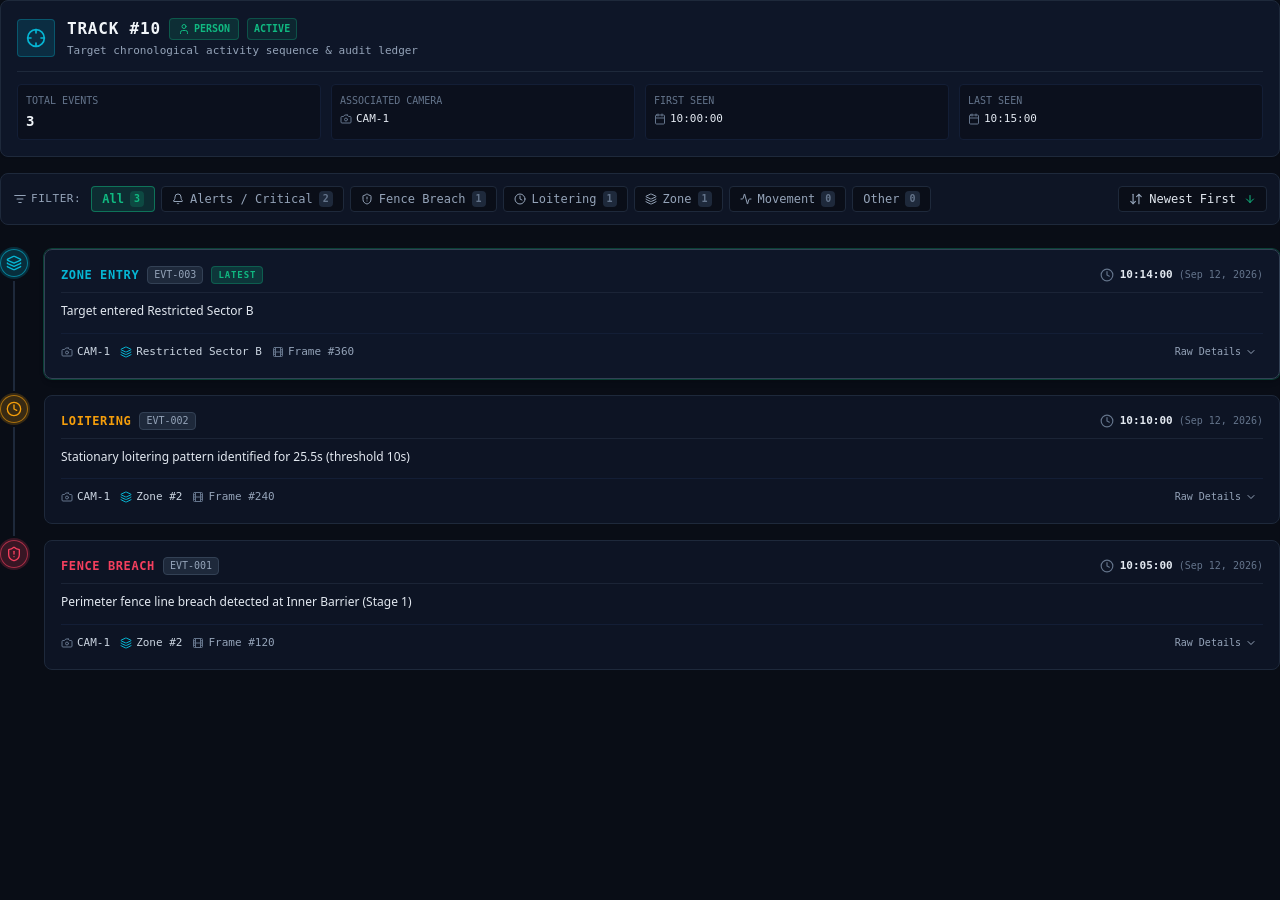
Test case: IBVAP M22 — Event Timeline Module Test Suite › 4. filters events by category client-side on loaded real data
This screenshot has width=1280, height=900.
# Filter by Fence Breach
Click the button with test id "timeline-filter-breach". click: (423, 199)
box: left=350, top=186, right=496, bottom=212
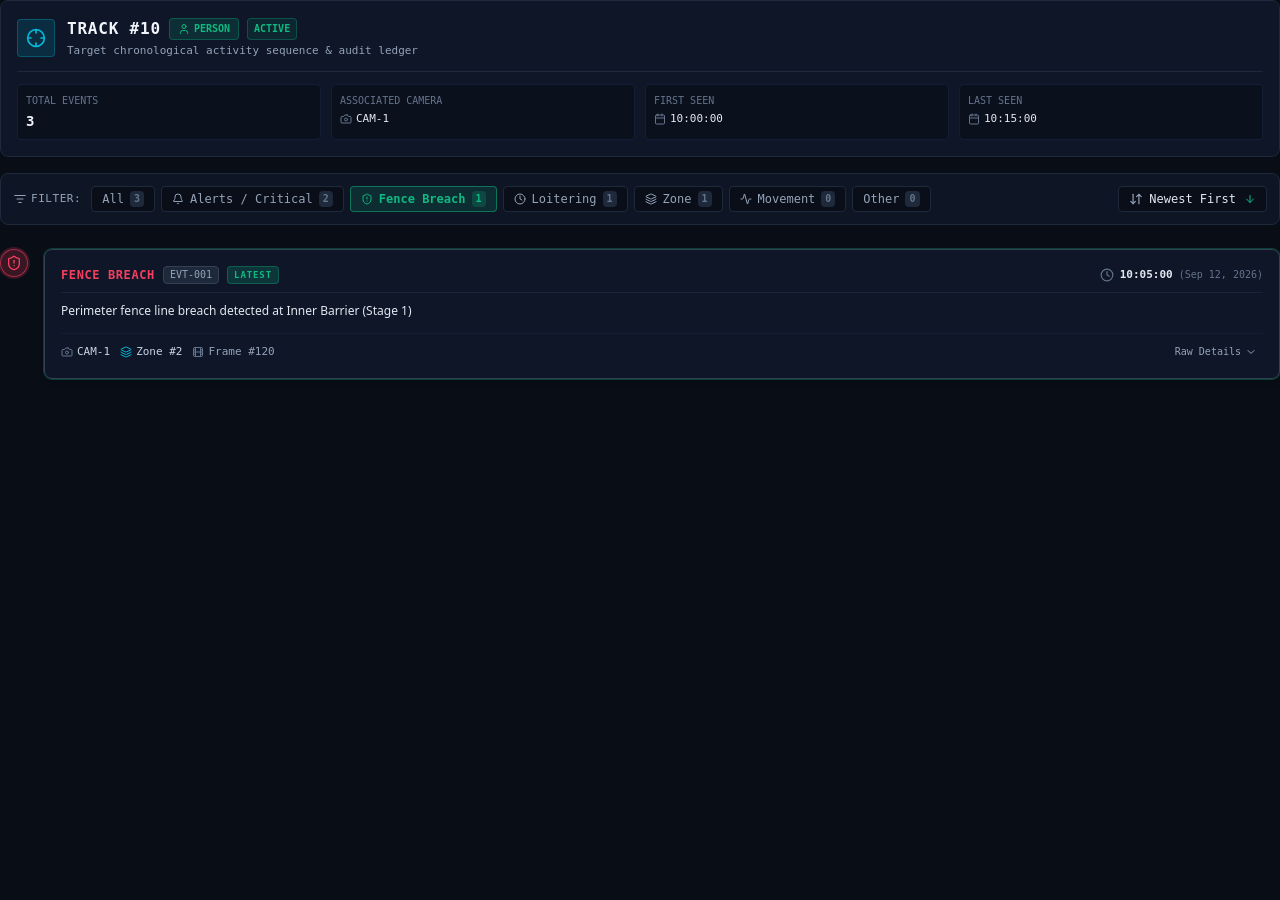
expect the list item with test id "timeline-event-101" is shown: met, box left=0, top=249, right=1279, bottom=394
expect the list item with test id "timeline-event-102" is gone: met
expect the list item with test id "timeline-event-103" is gone: met
# Filter by Loitering
Click the button with test id "timeline-filter-loitering". click: (565, 199)
box: left=502, top=186, right=628, bottom=212
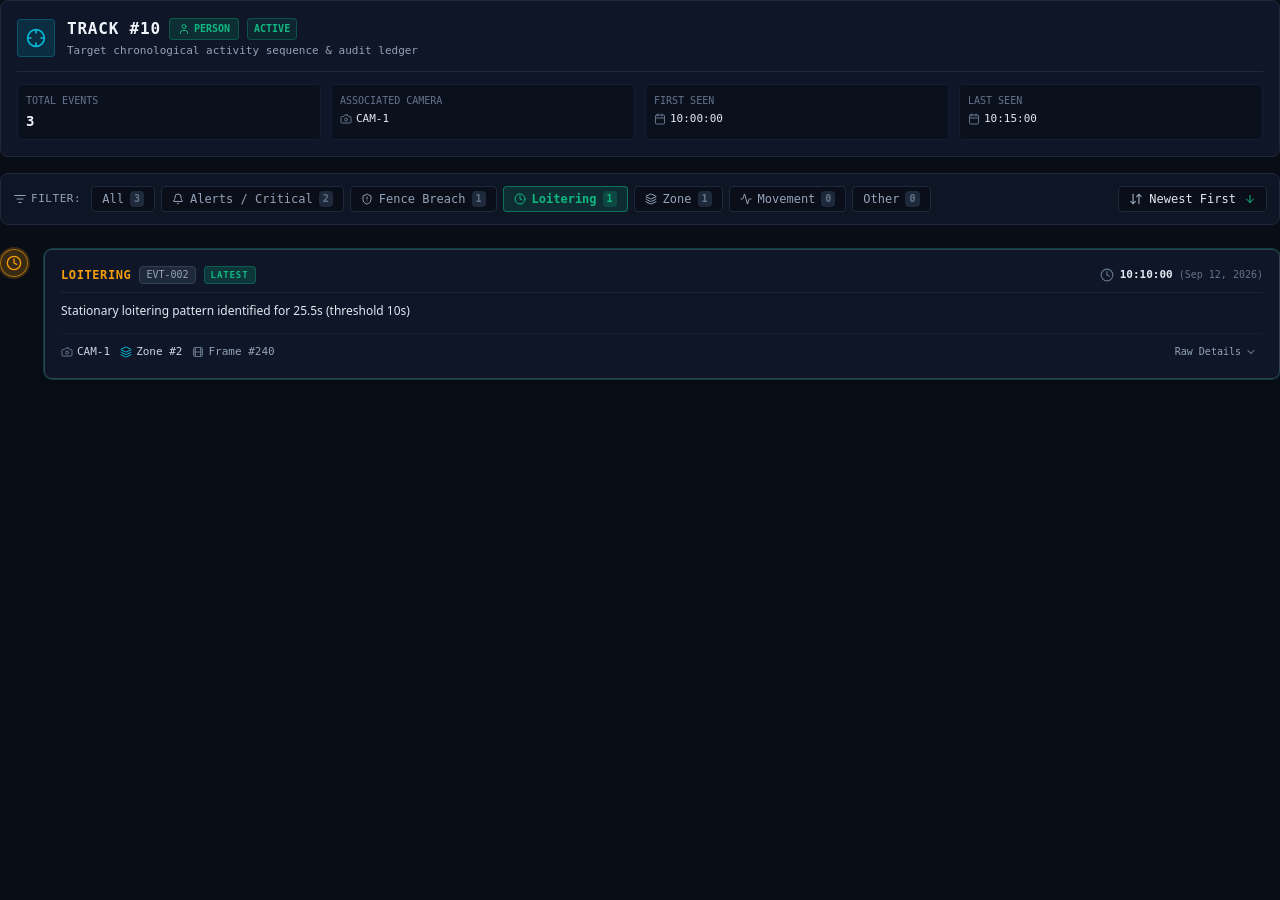
expect the list item with test id "timeline-event-101" is gone: met
expect the list item with test id "timeline-event-102" is shown: met, box left=0, top=249, right=1279, bottom=394
# Reset to All
Click the button with test id "timeline-filter-all". click: (123, 199)
box: left=91, top=186, right=155, bottom=212
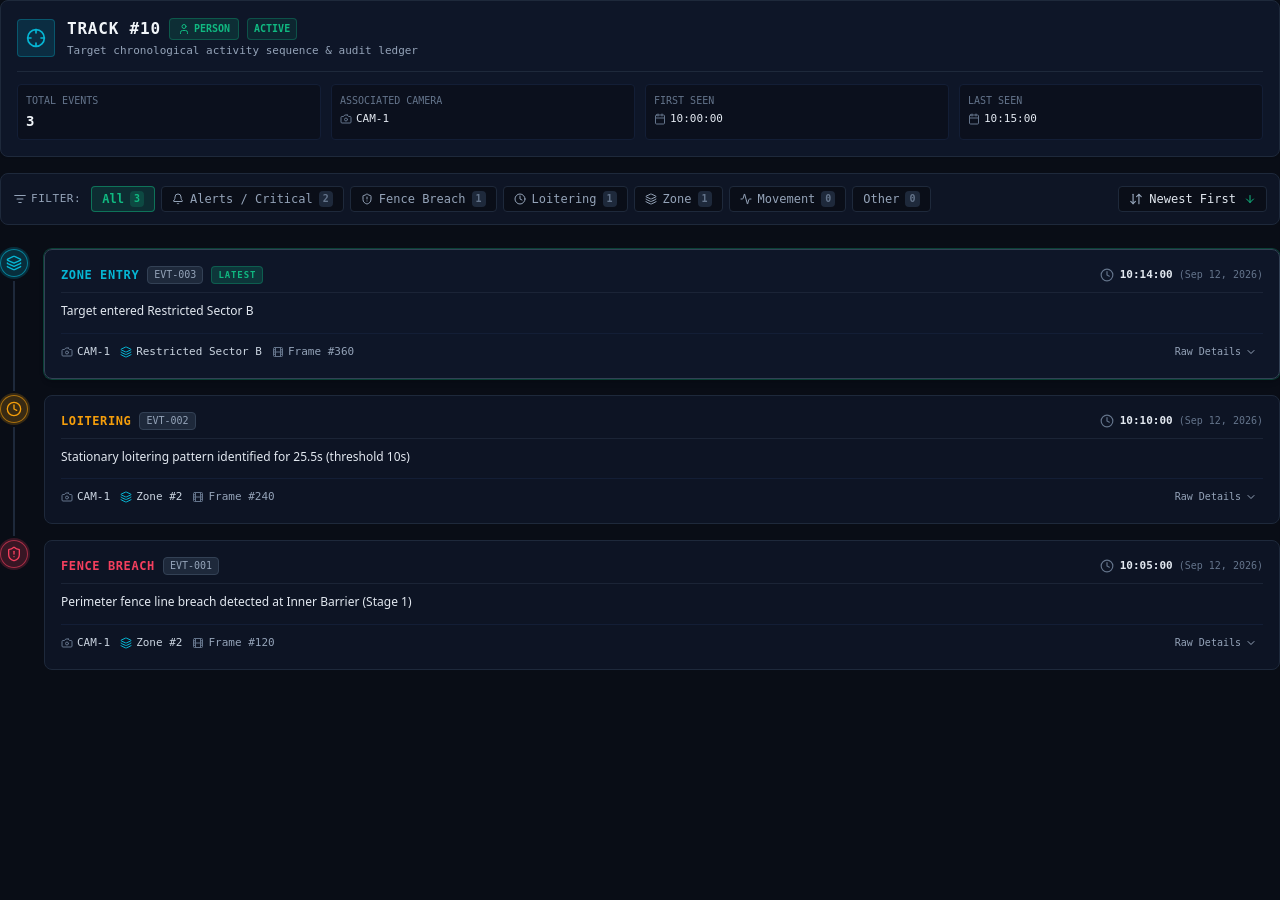
expect the list item with test id "timeline-event-102" is shown: met, box left=0, top=394, right=1279, bottom=540
expect the list item with test id "timeline-event-101" is shown: met, box left=0, top=540, right=1279, bottom=686
expect the list item with test id "timeline-event-103" is shown: met, box left=0, top=249, right=1279, bottom=394
